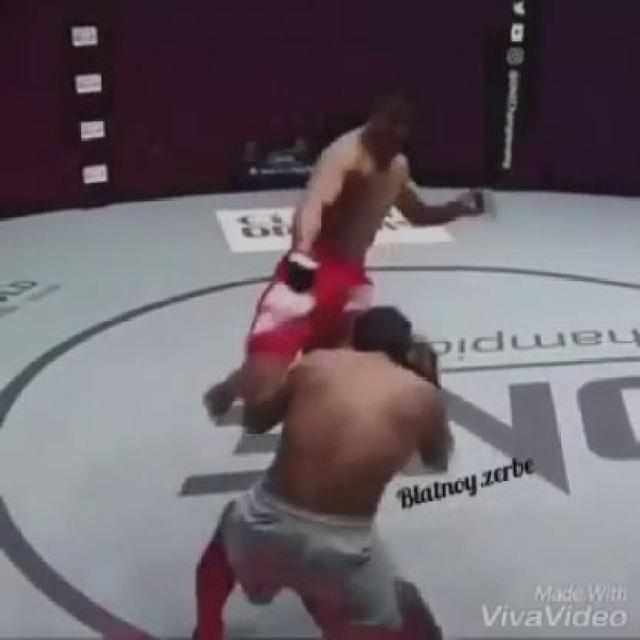fight: (192, 74, 485, 640)
